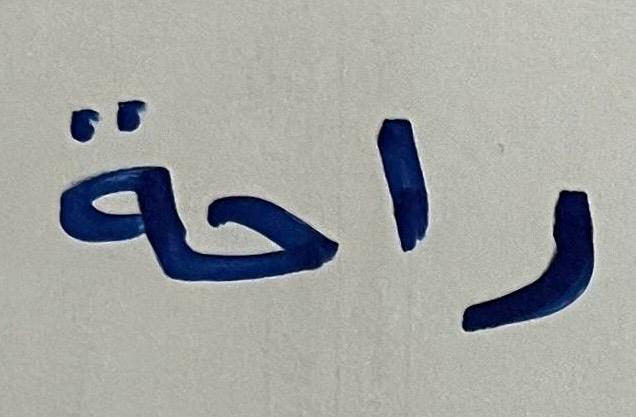alef: (346, 87, 448, 332)
hah: (197, 132, 343, 353)
reh: (455, 110, 619, 356)
teh_marbota: (34, 68, 194, 363)
